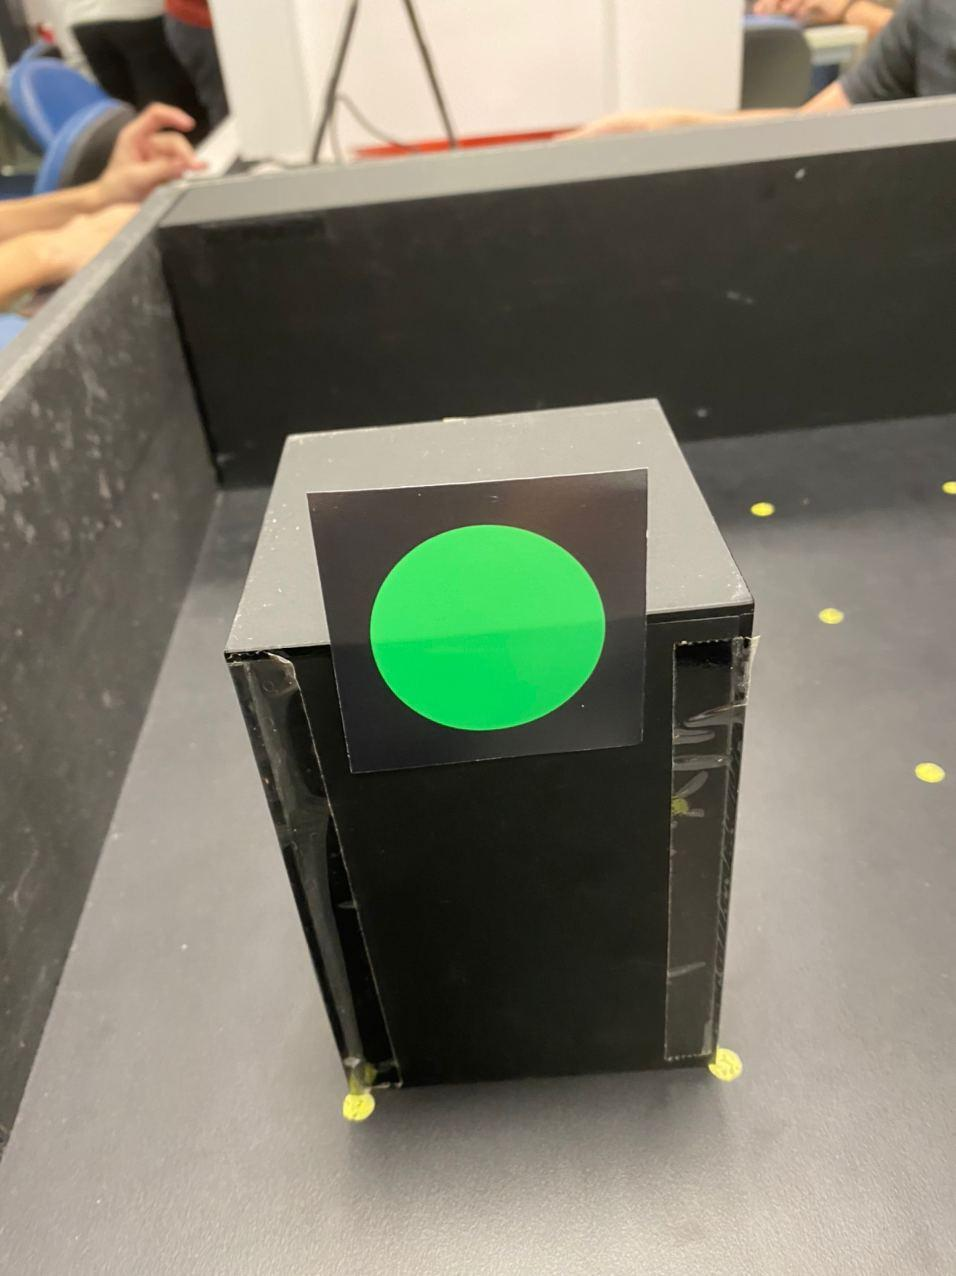go: (356, 521, 616, 731)
